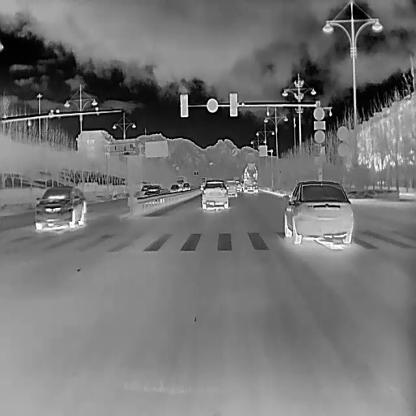car: (282, 180, 353, 244), (34, 184, 86, 230), (199, 178, 229, 210), (143, 186, 163, 202), (225, 180, 236, 196), (168, 183, 180, 193), (233, 180, 241, 191), (182, 183, 190, 190)
truck: (242, 162, 258, 193), (176, 176, 188, 188)
